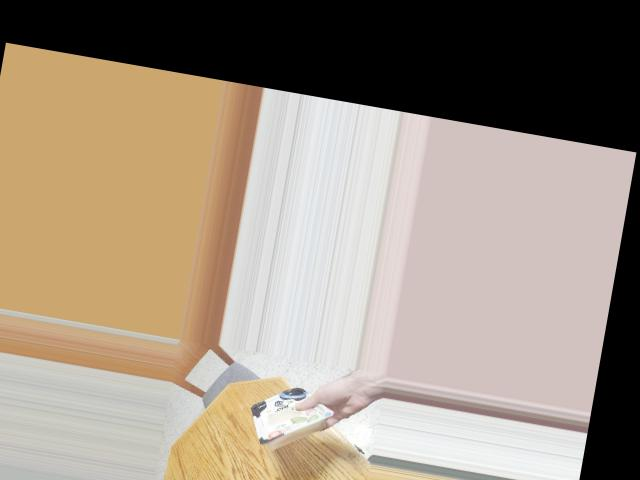cheese: (237, 377, 331, 470)
